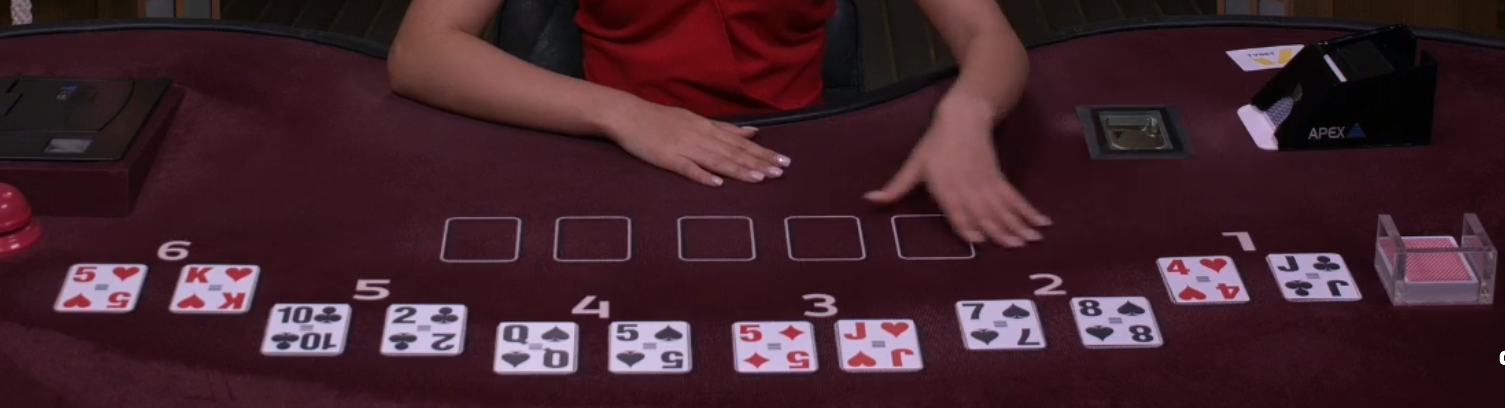10c: (258, 298, 354, 360)
2c: (378, 299, 476, 360)
4h: (1153, 246, 1260, 306)
5d: (728, 311, 826, 377)
5h: (53, 257, 148, 316)
5s: (601, 314, 705, 379)
7s: (954, 296, 1052, 356)
8s: (1067, 290, 1168, 352)
jc: (1263, 242, 1364, 307)
jh: (831, 314, 925, 376)
kh: (166, 254, 261, 317)
qs: (485, 314, 582, 377)
